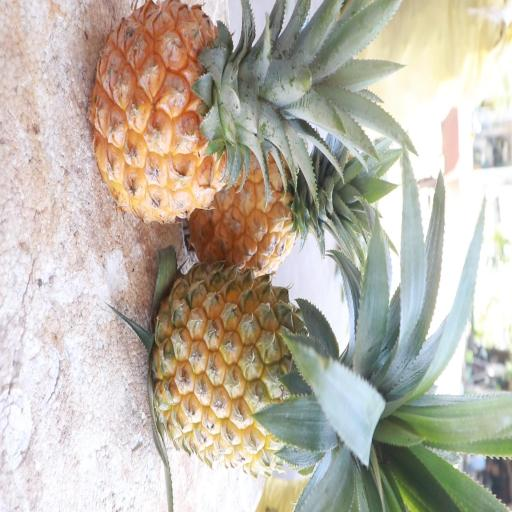Pineapple - v8 v1: (149, 262, 400, 472), (84, 0, 304, 228), (186, 129, 348, 275)
